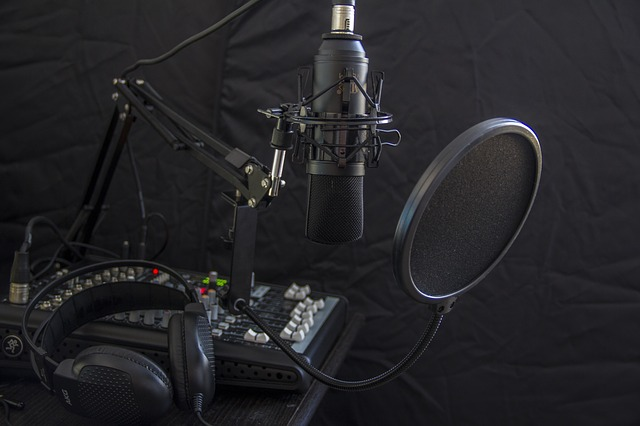headphones: (22, 259, 221, 423)
